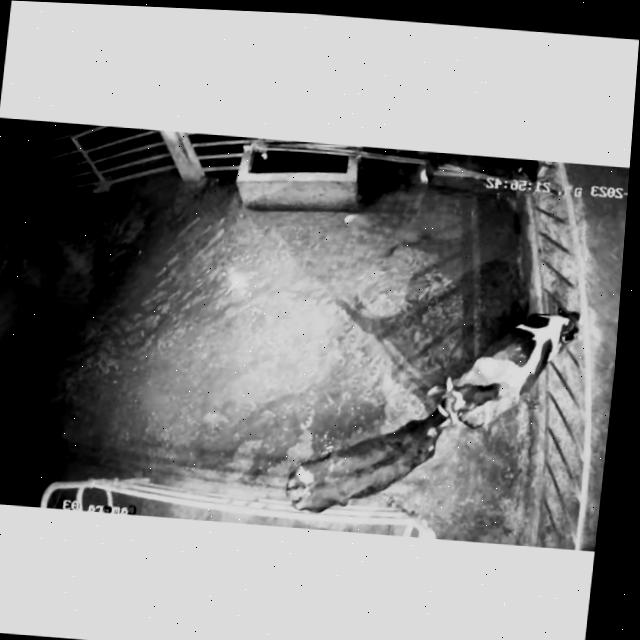propping: (396, 351, 523, 453)
